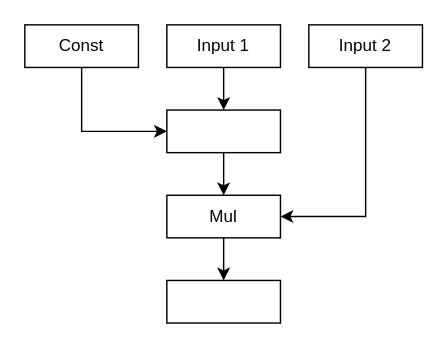
Some shapes in this 447 by 348 pixel diagram are drawn without their labels. Here are the shapes that lost their labels. From the top down, the box of each, then its label:
(165, 109, 280, 153): Add
(165, 279, 280, 323): Conv2d
